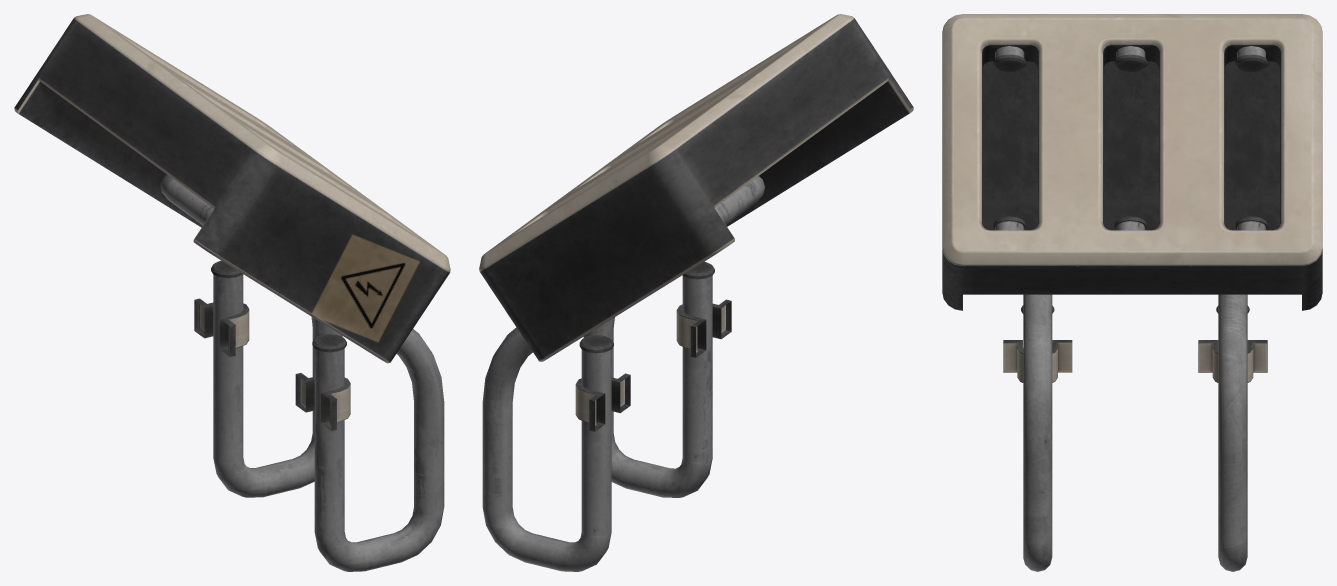
Rendered from HoveringPlatformFuseBox.fbx.
The picture shows the model from 3 angles, left to right: view 1: azimuth 30°, elevation 25°; view 2: azimuth 150°, elevation 25°; view 3: azimuth 270°, elevation 25°; orthographic projection. The views are drawn at different scales.
Parts seen in each view (by area): view 1: HoveringPlatformFuseBox; view 2: HoveringPlatformFuseBox; view 3: HoveringPlatformFuseBox.
Part boxes in pixels (box(x1,y1,x2,y2)): HoveringPlatformFuseBox: box(14, 14, 450, 571); HoveringPlatformFuseBox: box(479, 14, 913, 571); HoveringPlatformFuseBox: box(942, 14, 1322, 571).
Size of the model in its own units: 55.94 by 90.65 by 66.65.
